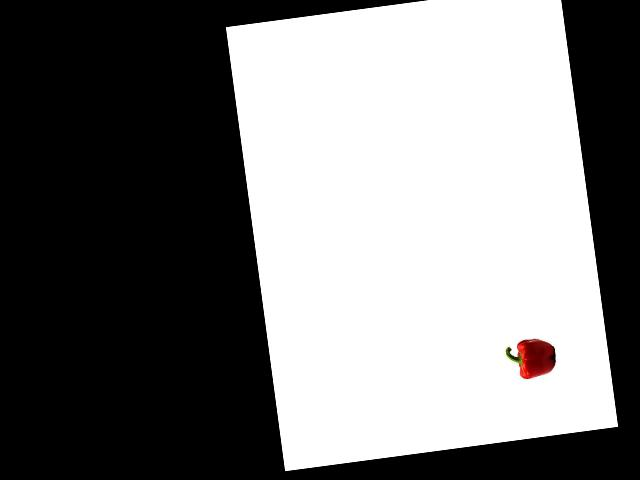bell_pepper: (502, 333, 560, 384)
